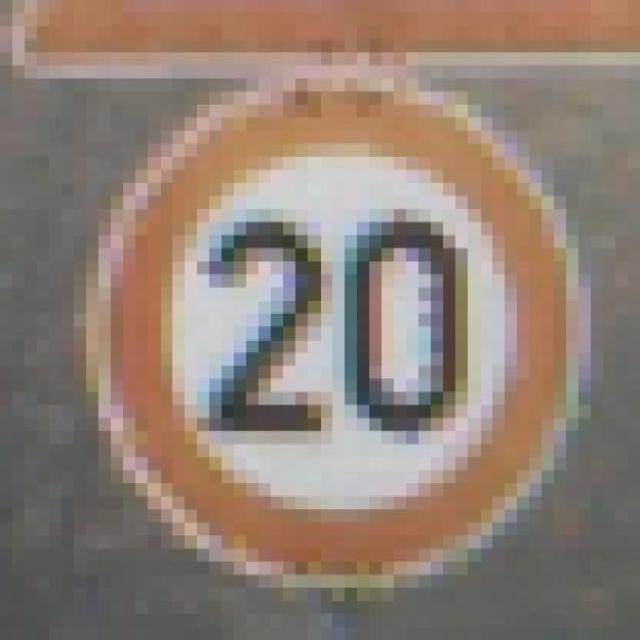forb_speed_over_20: (101, 87, 578, 587)
